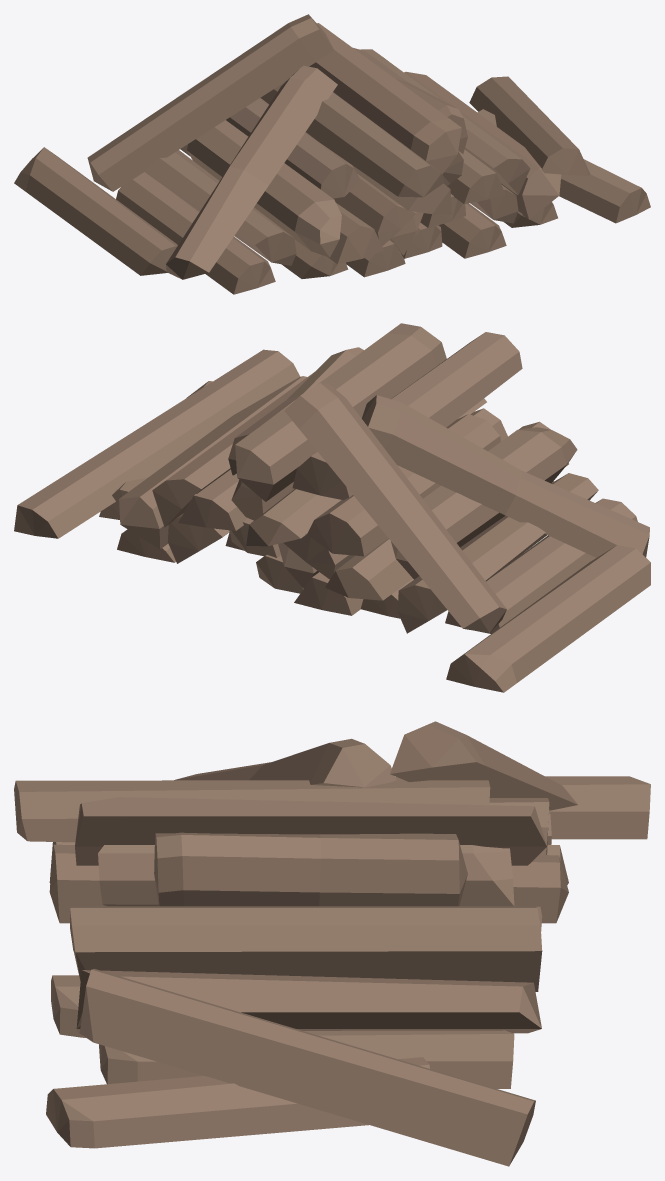
Rendered from 木柴堆.fbx.
3 renders of one model, top to bottom at view 1: azimuth 30°, elevation 25°; view 2: azimuth 150°, elevation 25°; view 3: azimuth 270°, elevation 25°, orthographic. The views are drawn at different scales.
Visible parts, largest first — view 1: 柴堆; view 2: 柴堆; view 3: 柴堆.
Boxes of the visible parts, x1,y1,x2,y2 form: 柴堆: (14, 14, 650, 294); 柴堆: (14, 323, 650, 692); 柴堆: (14, 721, 650, 1166).
Bounding box in the file's own units: 139 × 47.66 × 106.
